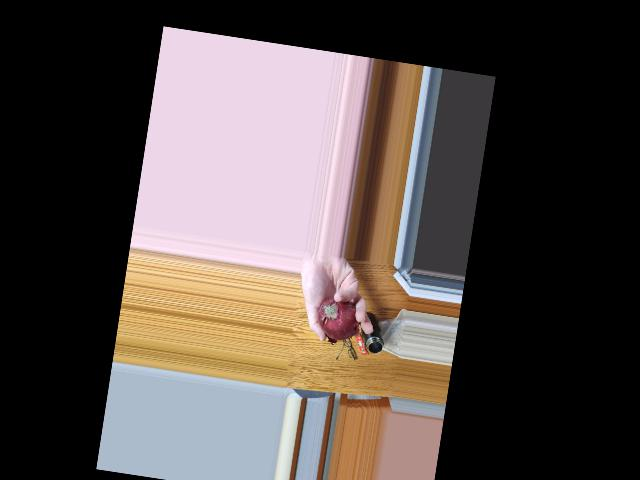onion: (314, 290, 362, 342)
